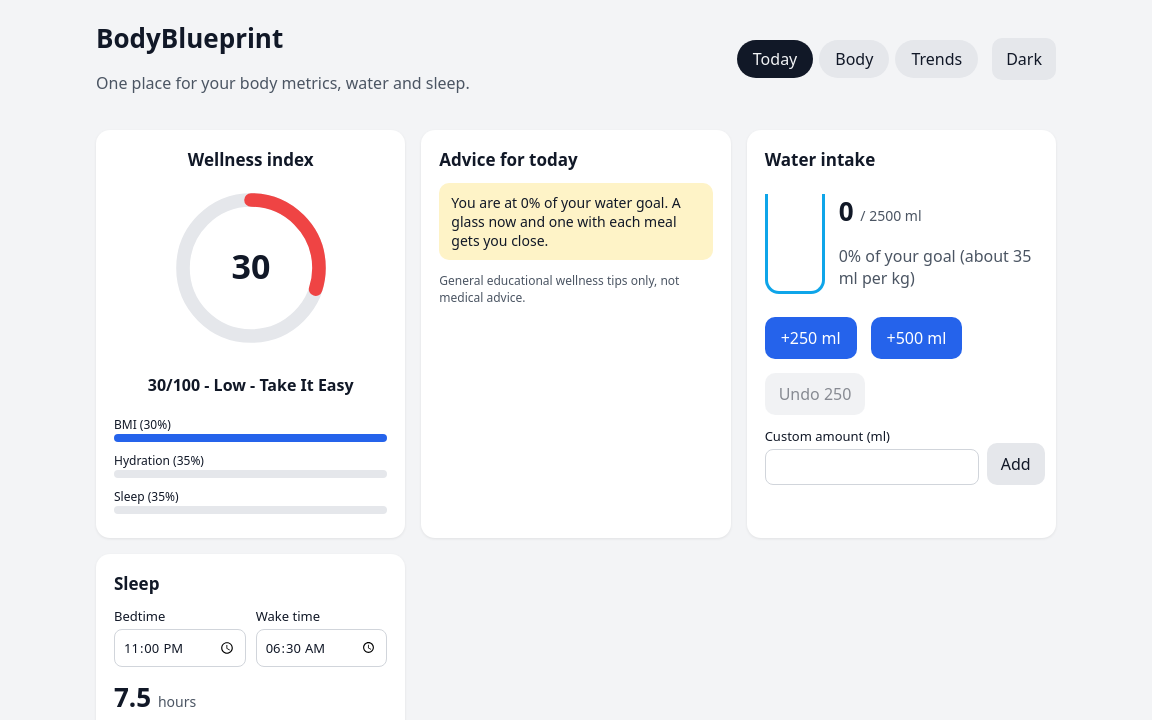
Today tab › adds water with the quick buttons and the custom field, and rejects bad custom amounts
This screenshot has width=1152, height=720.
Click the button "+500 ml" at (916, 338), box [870,317,962,359]
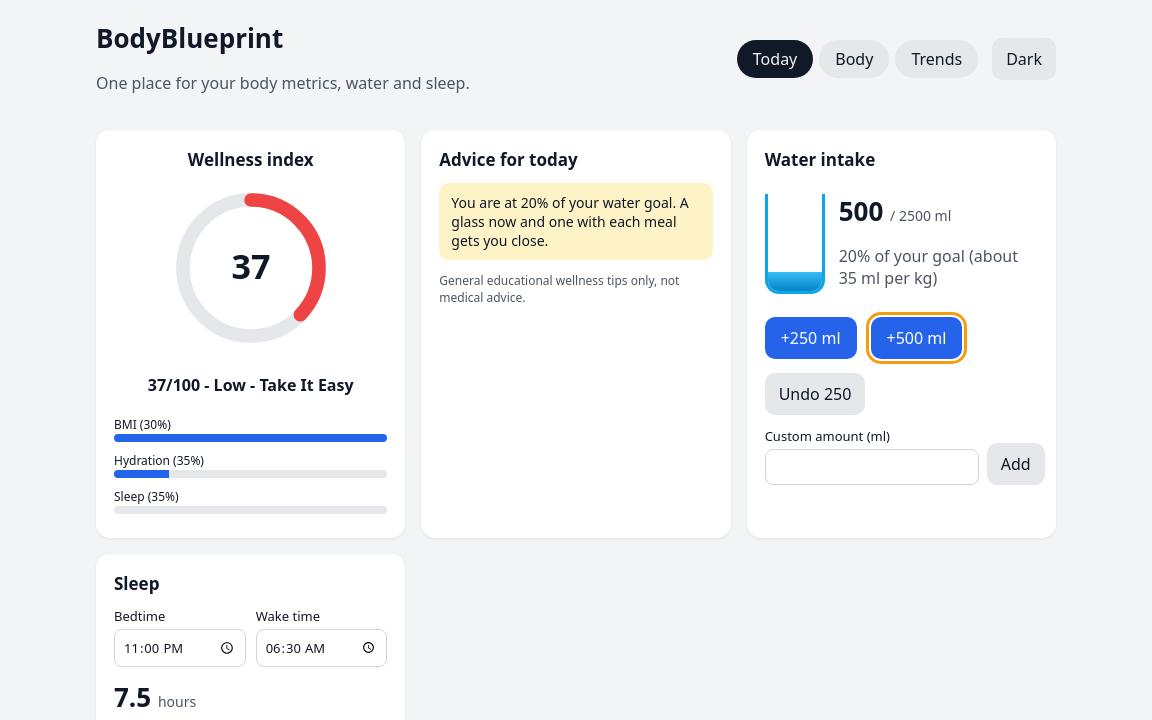
Check: the text "500 / 2500 ml" is shown, box [839,193,951,229]
Type "-20" into the number field labelled "Custom amount (ml)" at (872, 467), box [765,449,979,485]
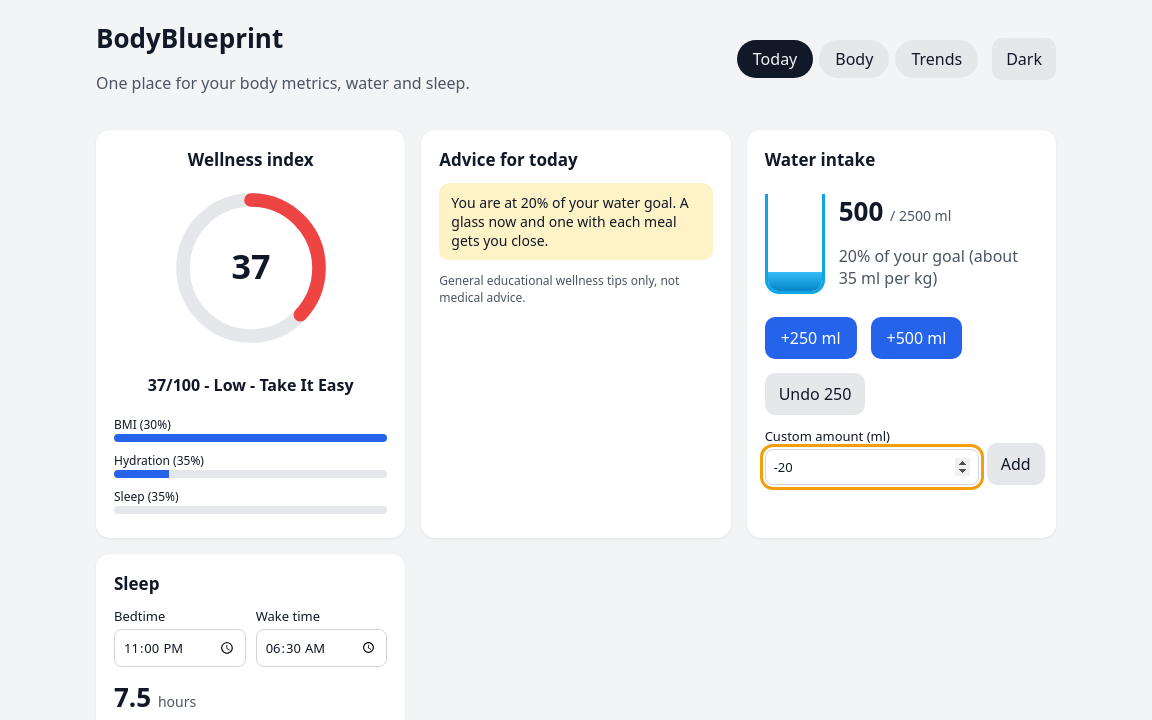
Click the button "Add" at (1016, 464), box [987,443,1045,485]
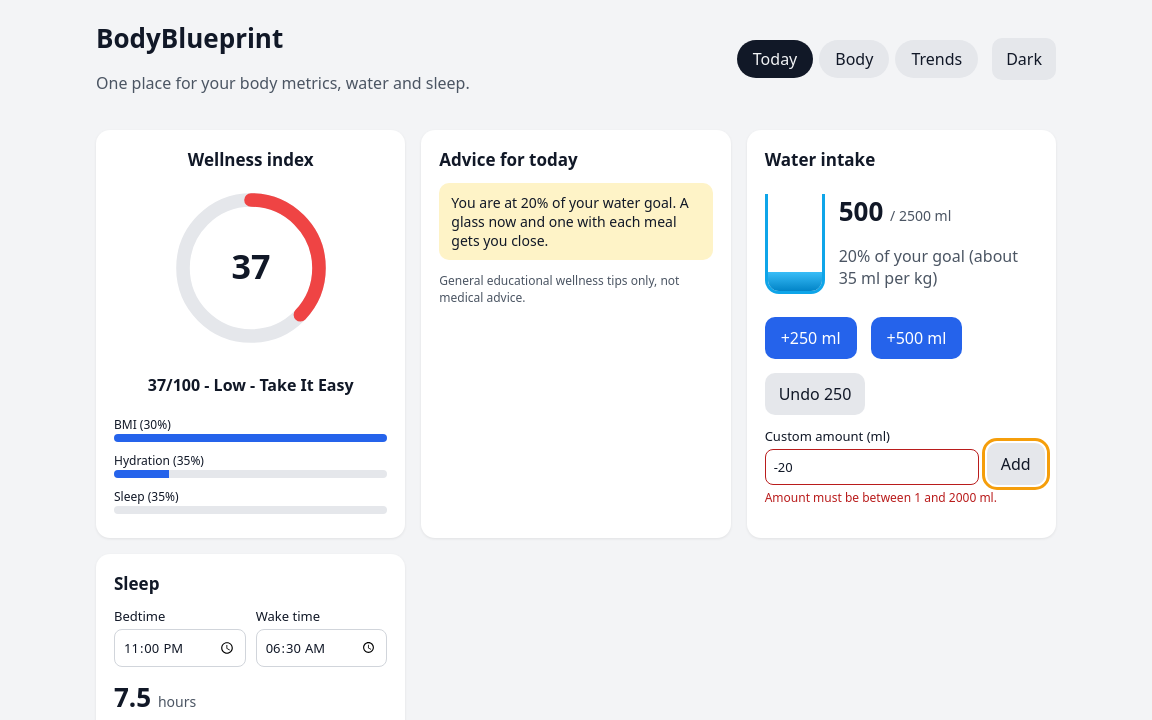
Check: the message shows "between 1 and 2000", box [765,489,997,506]
Replace the text in the number field labelled "Custom amount (ml)" with "300" at (872, 467), box [765,449,979,485]
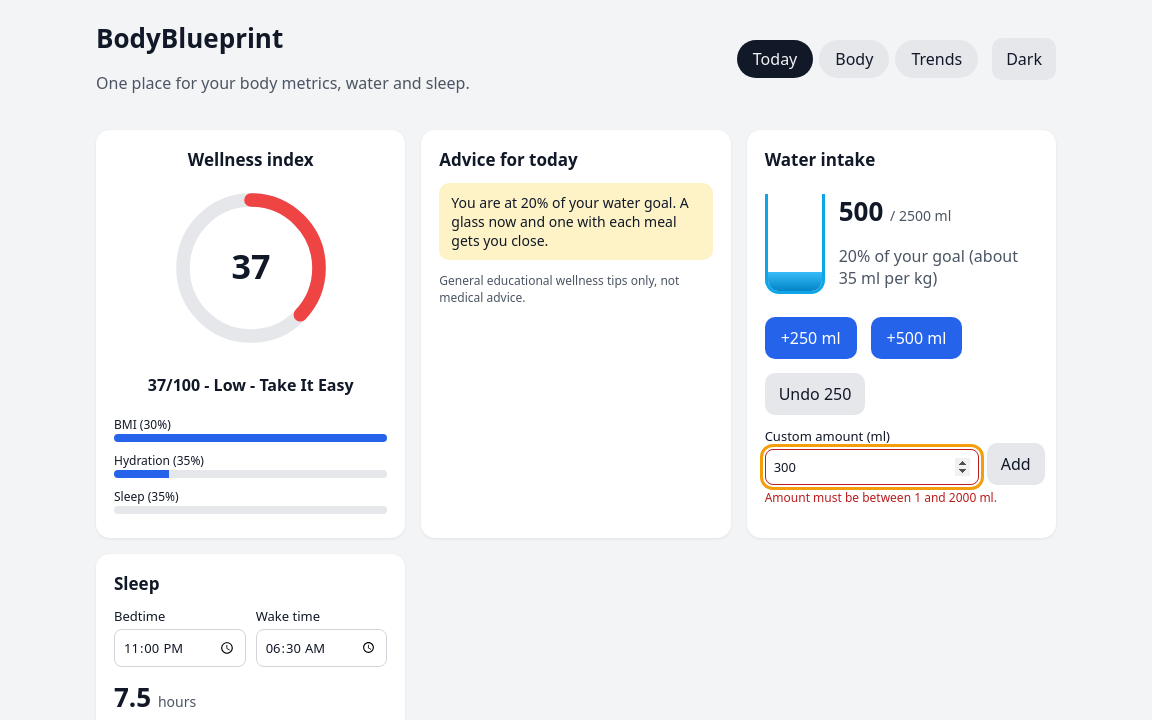
Click the button "Add" at (1016, 464), box [987,443,1045,485]
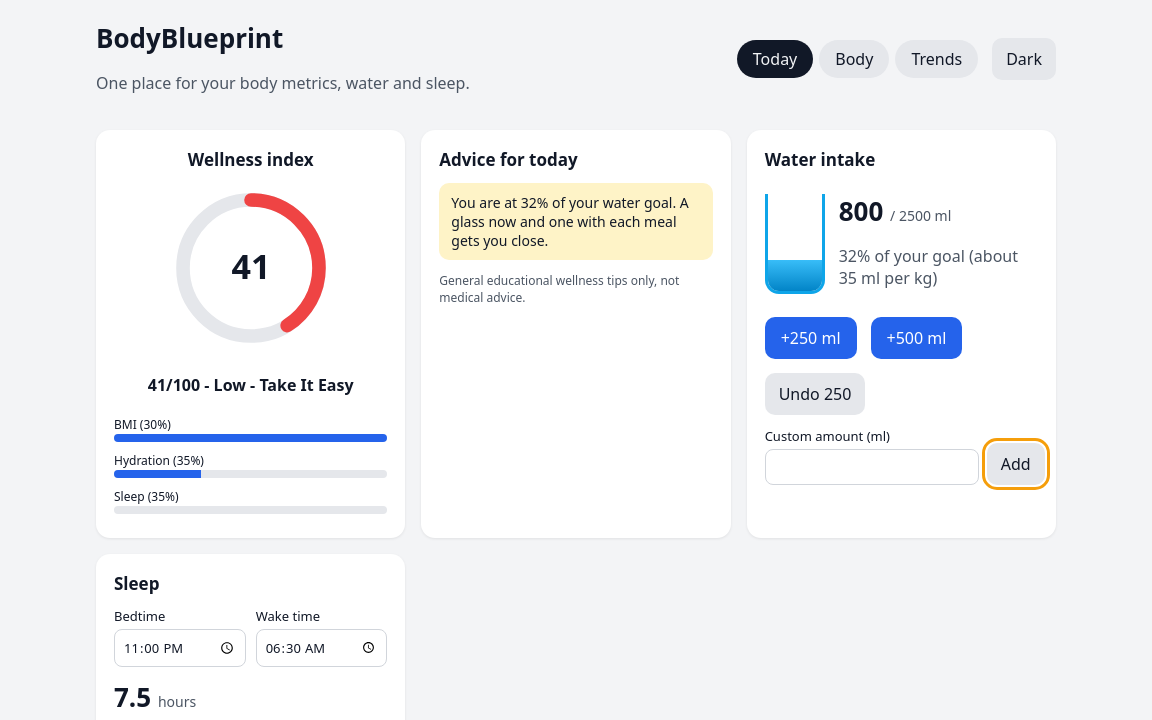
Check: the message "Amount must be between 1 and 2000 ml." is gone
Check: the text "800 / 2500 ml" is shown, box [839,193,951,229]
